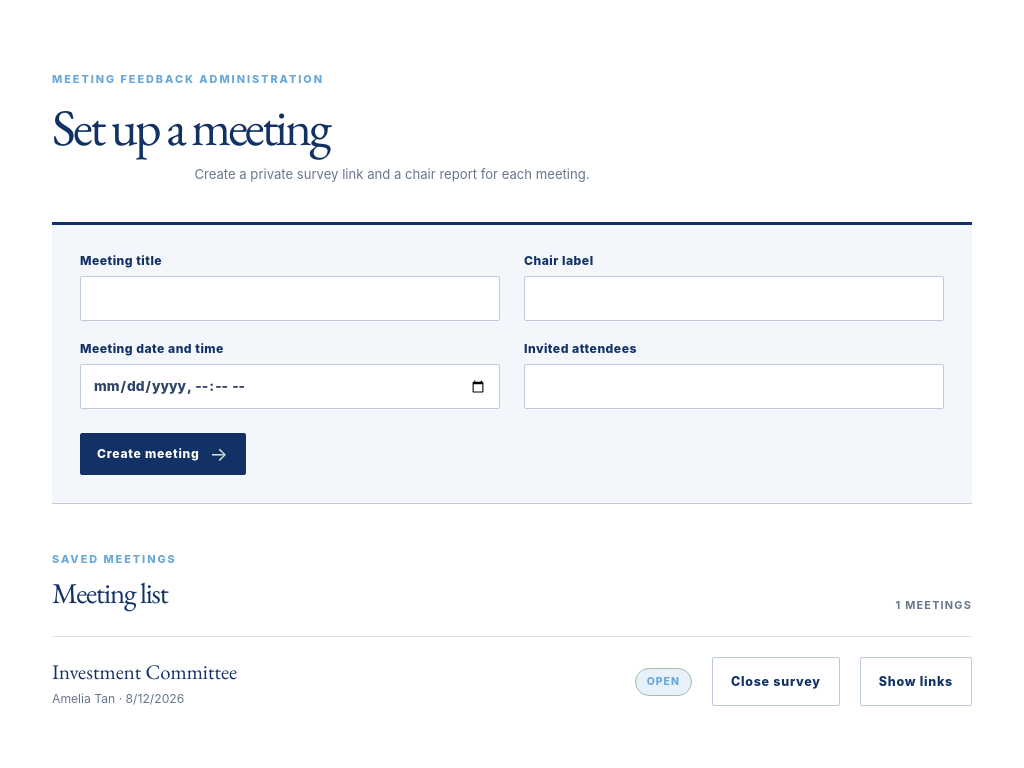
it: AdminPage › closes an open meeting from the meeting list
The image size is (1024, 768).
What coordinates should you click on to do the following:
click the button "Close survey"
I would click on:
 (776, 682)
Its box is top-left (712, 657), bottom-right (840, 706).
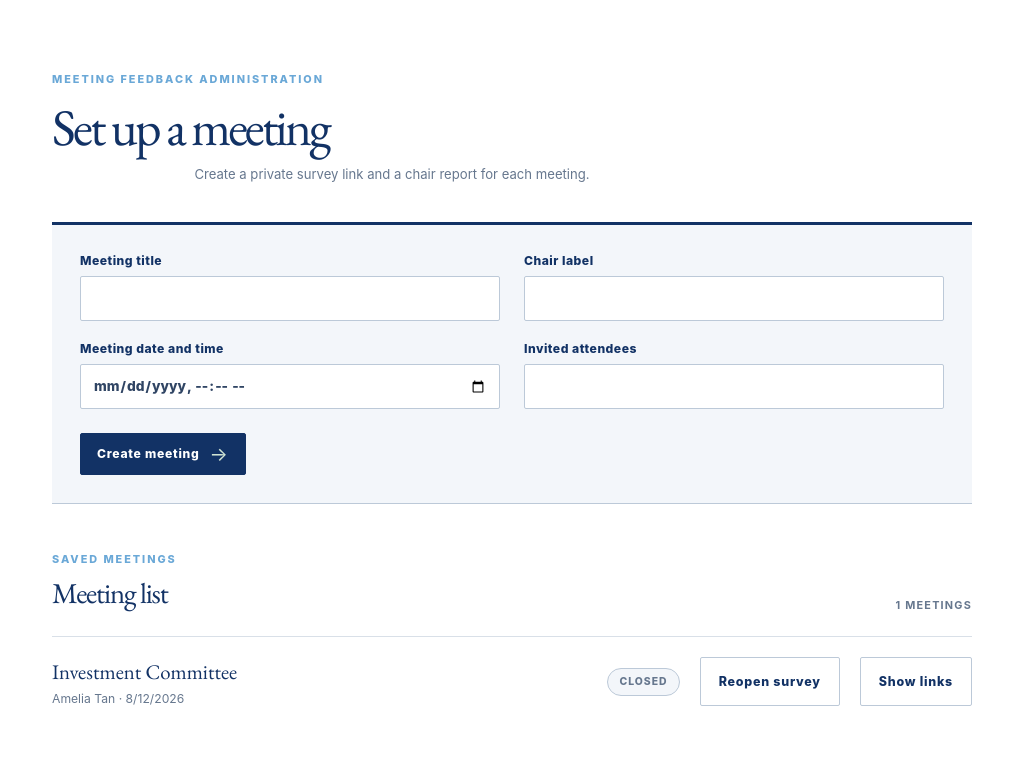
Check: the button "Reopen survey" is shown, box top-left (700, 657), bottom-right (840, 706)
